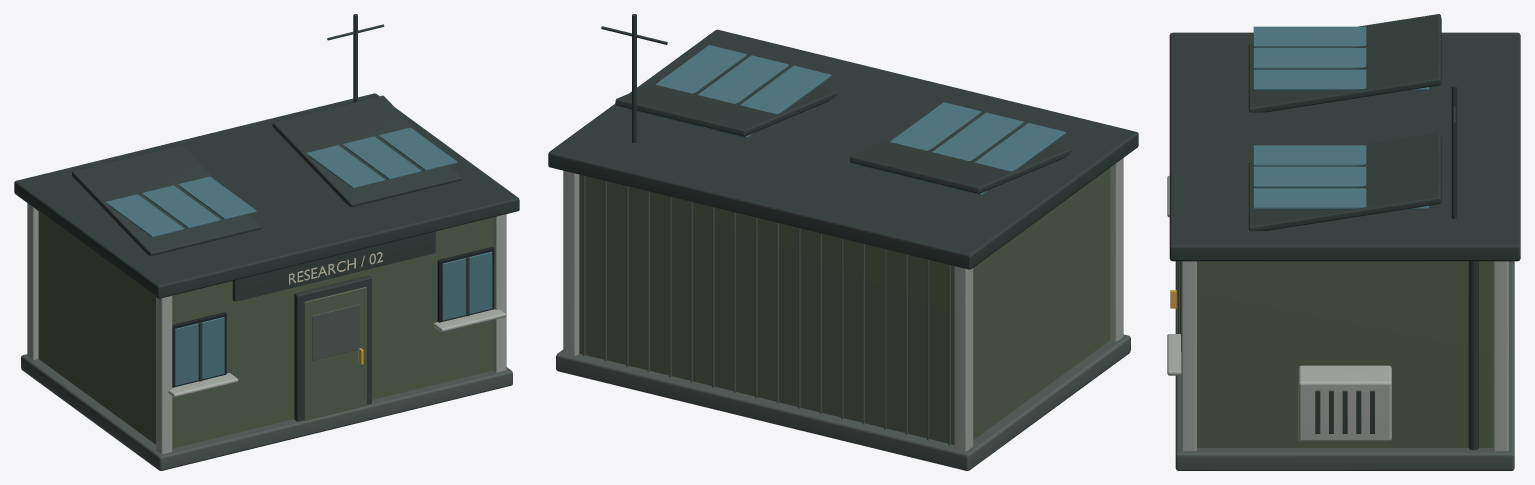
File: ResearchCabin.fbx
3 renders of one model, left to right at view 1: azimuth 30°, elevation 25°; view 2: azimuth 150°, elevation 25°; view 3: azimuth 270°, elevation 25°, orthographic. The views are drawn at different scales.
Visible parts, largest first — view 1: ResearchCabinMesh; view 2: ResearchCabinMesh; view 3: ResearchCabinMesh.
Part boxes in pixels (x1,y1,x2,y2): ResearchCabinMesh: [14, 14, 519, 470]; ResearchCabinMesh: [548, 14, 1138, 470]; ResearchCabinMesh: [1167, 14, 1520, 470].
Bounding box in the file's own units: 686 × 510 × 453.
